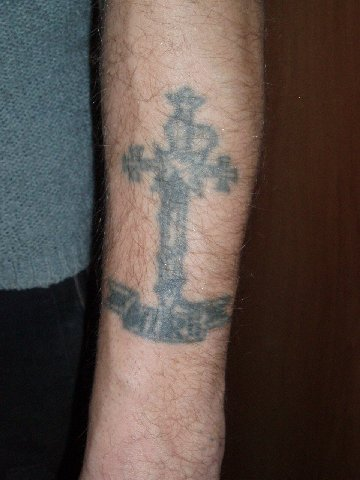tatu9_krest: (117, 79, 235, 309)
